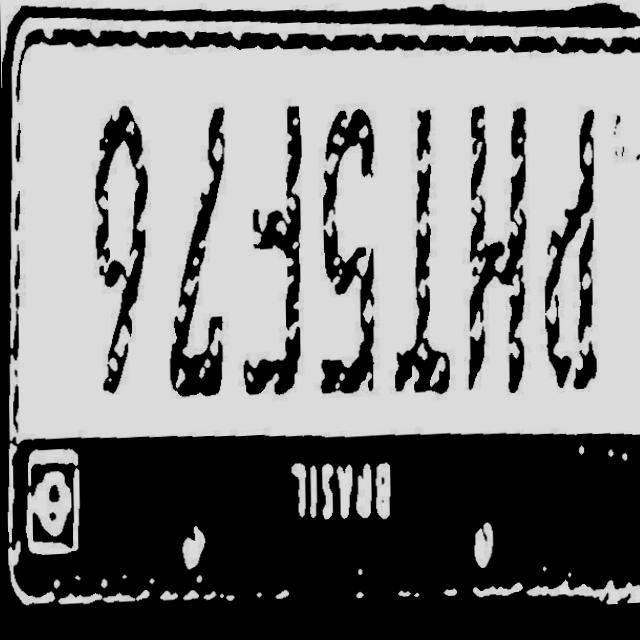5: (307, 109, 385, 418)
6: (79, 105, 156, 415)
7: (163, 108, 237, 410)
f: (232, 101, 309, 412)
h: (452, 104, 539, 423)
p: (538, 115, 614, 402)
t: (385, 96, 454, 418)
